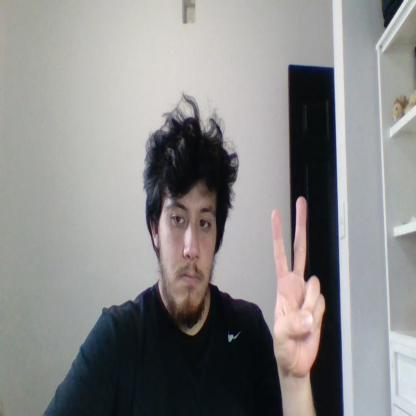V: (271, 196, 324, 374)
